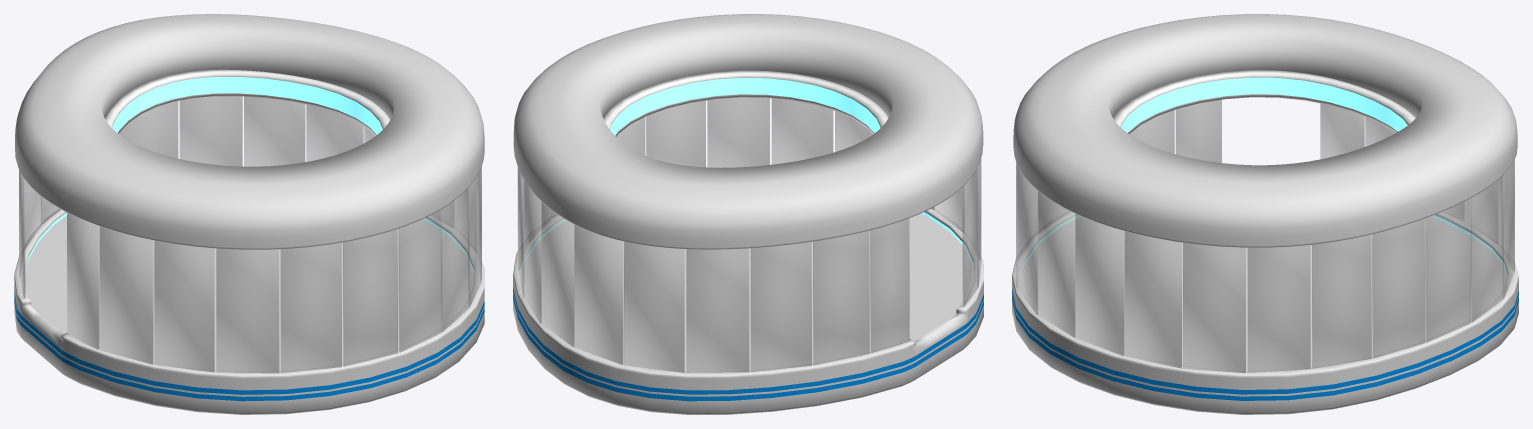
File: Sala_de_Reuniao.fbx
3 views of the same model, side by side, from view 1: azimuth 30°, elevation 25°; view 2: azimuth 150°, elevation 25°; view 3: azimuth 270°, elevation 25° (orthographic).
Visible parts, largest first — view 1: Teto__Reuniao_E, Vidro_E, Chao_Reuniao_E, Piso__Reuniao_E, luminaria_E; view 2: Teto__Reuniao_E, Vidro_E, Chao_Reuniao_E, Piso__Reuniao_E, luminaria_E; view 3: Teto__Reuniao_E, Vidro_E, Chao_Reuniao_E, Piso__Reuniao_E, luminaria_E.
Boxes of the visible parts, x1,y1,x2,y2 form: Teto__Reuniao_E: [15, 14, 484, 249]; Vidro_E: [19, 96, 481, 373]; Chao_Reuniao_E: [24, 214, 473, 371]; Piso__Reuniao_E: [14, 208, 484, 414]; luminaria_E: [105, 69, 389, 136]; Teto__Reuniao_E: [513, 14, 983, 249]; Vidro_E: [517, 97, 981, 372]; Chao_Reuniao_E: [524, 213, 973, 371]; Piso__Reuniao_E: [513, 208, 983, 414]; luminaria_E: [603, 70, 888, 136]; Teto__Reuniao_E: [1013, 14, 1517, 247]; Vidro_E: [1016, 100, 1514, 372]; Chao_Reuniao_E: [1023, 216, 1507, 370]; Piso__Reuniao_E: [1012, 211, 1518, 414]; luminaria_E: [1113, 70, 1415, 133].
Bounding box in the file's own units: 18.13 × 8.91 × 19.19.
